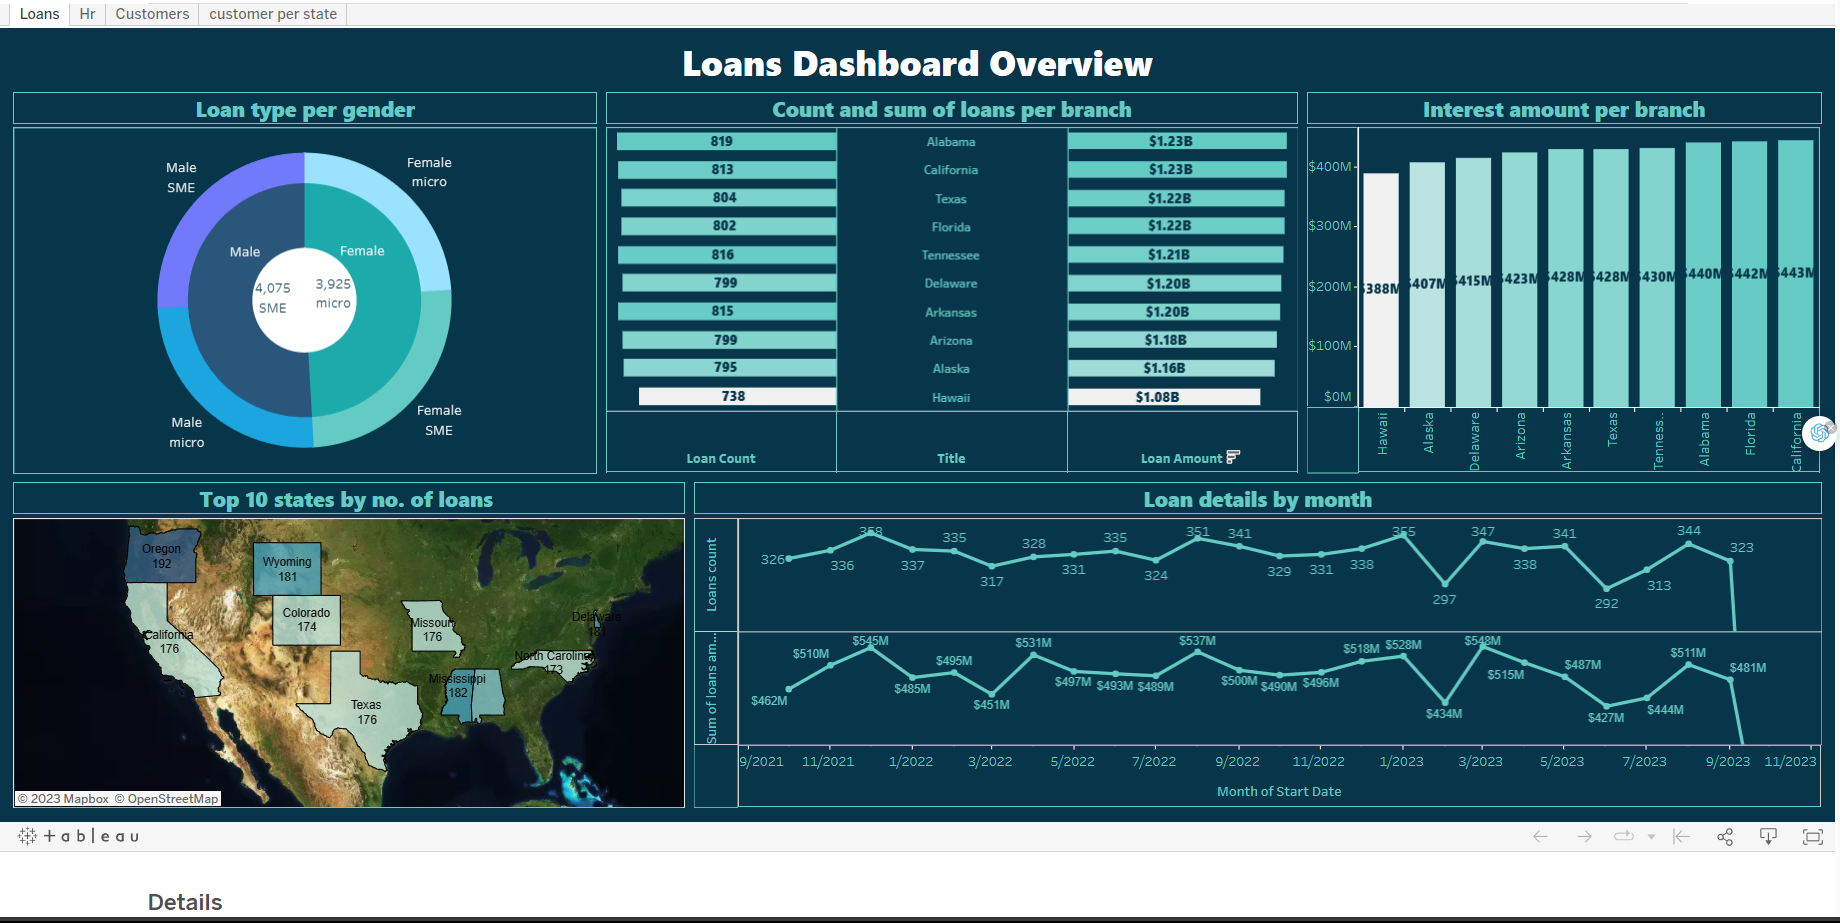

What the dashboard file says about the page in this screenshot:
{"tool":"tableau","page":{"name":"Loans","canvas":[1000,1000],"units":"permille","ordinal":2},"visuals":[{"type":"text","box":[5.7,11.1,988.7,63.2]},{"type":"worksheet","title":"Loan type per gender","mark":"Multipolygon","box":[5.7,74.2,322.9,493.2]},{"type":"worksheet","title":"Branch loan details","mark":"Automatic","rows":["BranchName"],"cols":["Loan_0E771FE173254B81AFCEE57379F39E8A","Calculation_957859356543586307","loan_amount"],"box":[328.5,74.2,380.9,493.2]},{"type":"worksheet","title":"Interest amount per branch","mark":"Automatic","rows":["Calculation_849210015236972550"],"cols":["BranchName"],"box":[709.5,74.2,284.9,493.2]},{"type":"worksheet","title":"Top 10 states by no. of loans ","mark":"Automatic","box":[5.7,567.4,370.3,421.5]},{"type":"worksheet","title":"Loan details by month","mark":"Automatic","rows":["Loan_0E771FE173254B81AFCEE57379F39E8A","loan_amount"],"cols":["Start Date"],"box":[375.9,567.4,618.4,421.5]}]}

Visuals, with their boxes on the dashboard's canvas, which has no fixed pixel size, in thousandths of its width and height (x1, y1, x2, y2). These are canvas units, not pixel positions in the 1840x923 screenshot, which may show the page scaled, cropped or inside an application window:
text: (6, 11, 994, 74)
"Loan type per gender" worksheet (Multipolygon marks): (6, 74, 329, 567)
"Branch loan details" worksheet: (328, 74, 709, 567)
"Interest amount per branch" worksheet: (710, 74, 994, 567)
"Top 10 states by no. of loans " worksheet: (6, 567, 376, 989)
"Loan details by month" worksheet: (376, 567, 994, 989)
